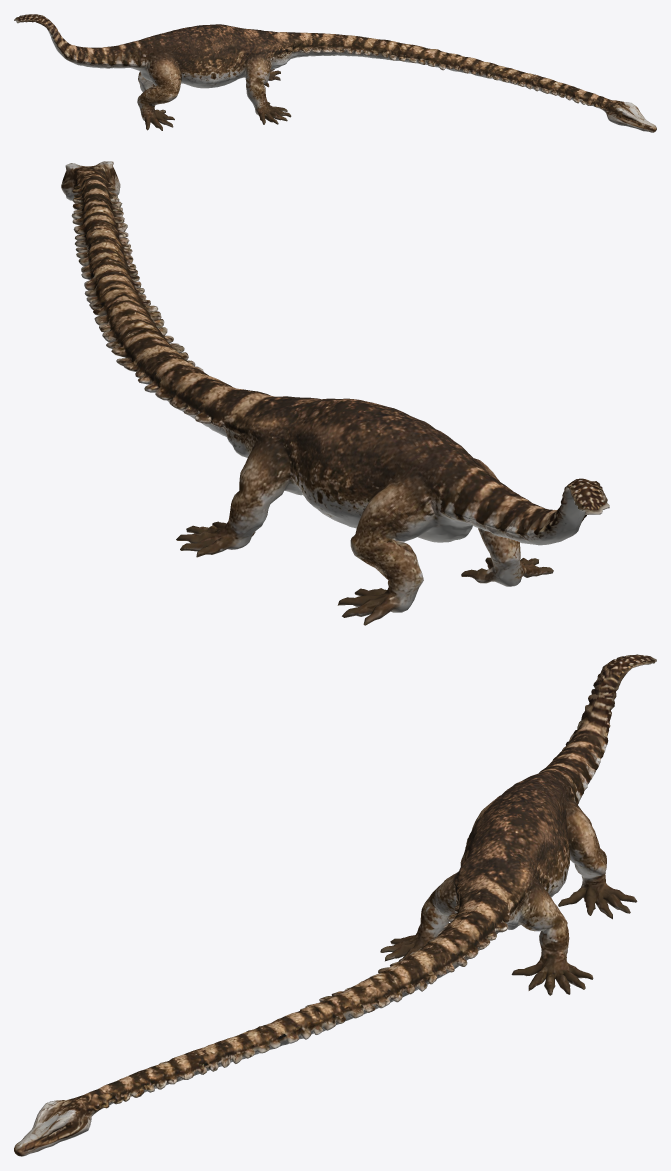
Rendered from tanystropheus.preview.glb.
3 views of the same model, one above another, from view 1: azimuth 30°, elevation 25°; view 2: azimuth 150°, elevation 25°; view 3: azimuth 270°, elevation 25° (orthographic). The views are drawn at different scales.
Visible parts, largest first — view 1: tripo_node_aa7cb744-2664-426b-9e1e-a21ff6e96ec8.001; view 2: tripo_node_aa7cb744-2664-426b-9e1e-a21ff6e96ec8.001; view 3: tripo_node_aa7cb744-2664-426b-9e1e-a21ff6e96ec8.001.
Boxes of the visible parts, x1,y1,x2,y2 form: tripo_node_aa7cb744-2664-426b-9e1e-a21ff6e96ec8.001: (14,14,656,132); tripo_node_aa7cb744-2664-426b-9e1e-a21ff6e96ec8.001: (61,161,609,625); tripo_node_aa7cb744-2664-426b-9e1e-a21ff6e96ec8.001: (14,654,656,1156).
Size of the model in its own units: 1 by 0.2035 by 0.7417.
1 material, 1 textured.
